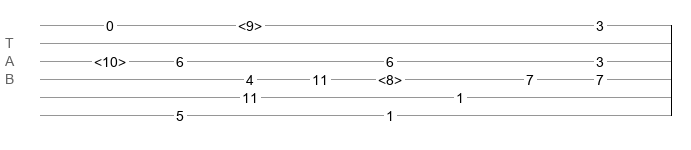0: (106, 18, 114, 28)
1: (386, 108, 394, 118), (456, 90, 464, 100)
11: (242, 90, 258, 100), (312, 72, 328, 82)
3: (596, 54, 604, 64), (596, 18, 604, 28)
4: (246, 72, 254, 82)
5: (176, 108, 184, 118)
6: (176, 54, 184, 64), (386, 54, 394, 64)
7: (526, 72, 534, 82), (596, 72, 604, 82)
harmonic: (94, 54, 126, 64), (238, 18, 262, 28), (378, 72, 402, 82)
